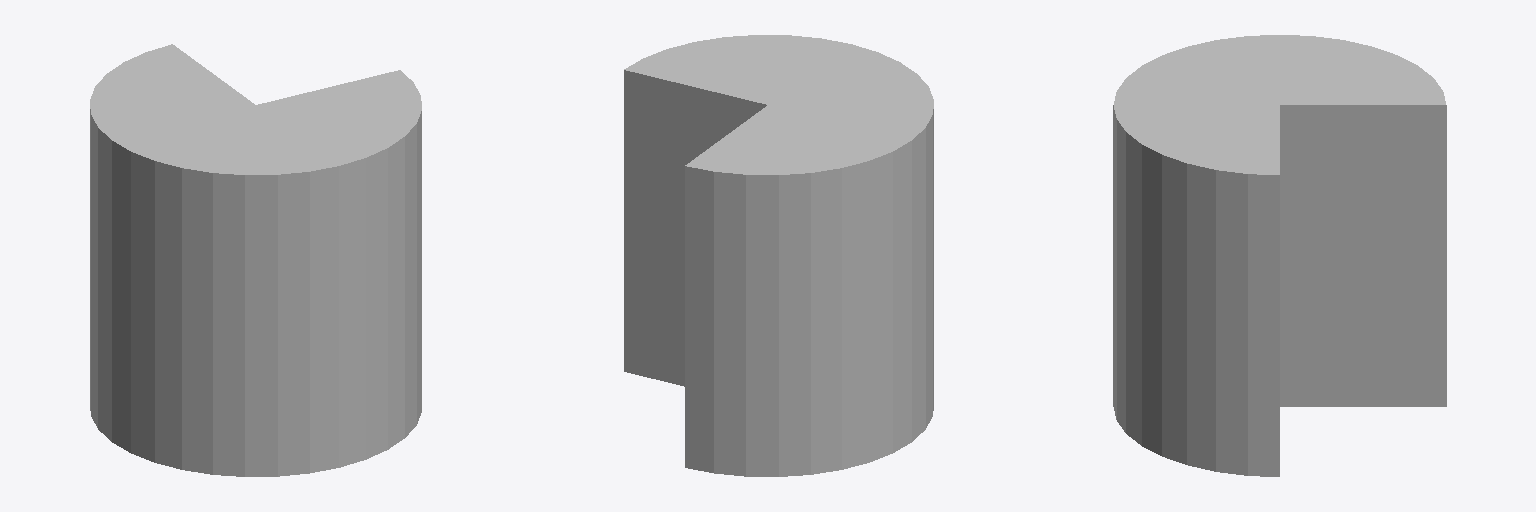
File: cylinderEdge.obj
The picture shows the model from 3 angles: view 1: azimuth 30°, elevation 25°; view 2: azimuth 150°, elevation 25°; view 3: azimuth 270°, elevation 25°; orthographic projection.
Parts seen in each view (by area): view 1: Cylinder; view 2: Cylinder; view 3: Cylinder.
Part boxes in pixels (left/top/right/bottom): Cylinder: left=90, top=44, right=421, bottom=476; Cylinder: left=624, top=35, right=933, bottom=476; Cylinder: left=1113, top=35, right=1446, bottom=476.
Size of the model in its own units: 1 by 1 by 1.